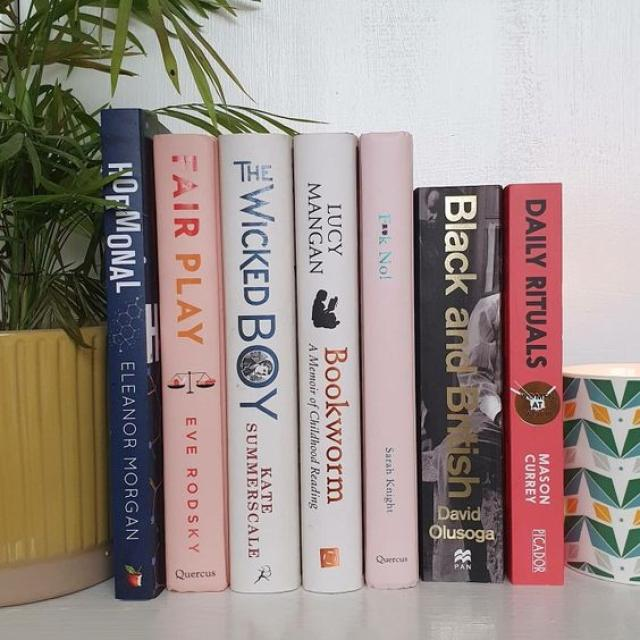book: (219, 135, 298, 592), (416, 185, 505, 581), (154, 134, 228, 591), (102, 108, 167, 599), (295, 133, 362, 591), (360, 132, 418, 588), (511, 183, 567, 580)
